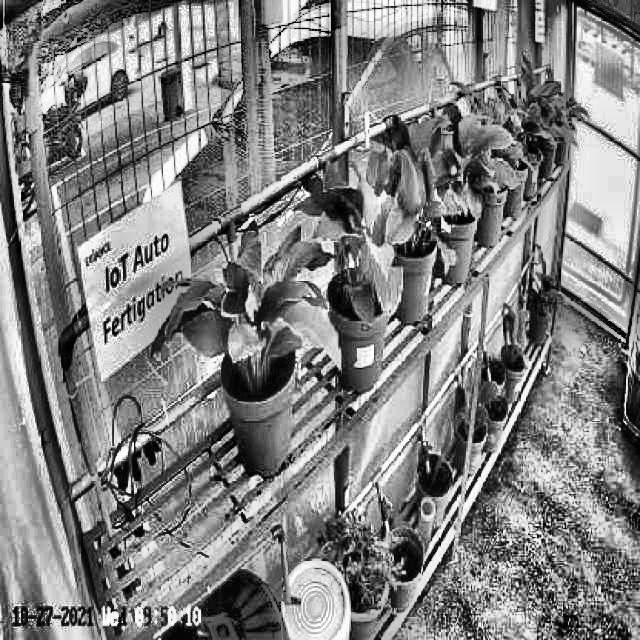plants: (152, 214, 338, 403), (303, 160, 405, 340), (357, 122, 452, 290), (410, 100, 512, 222)
